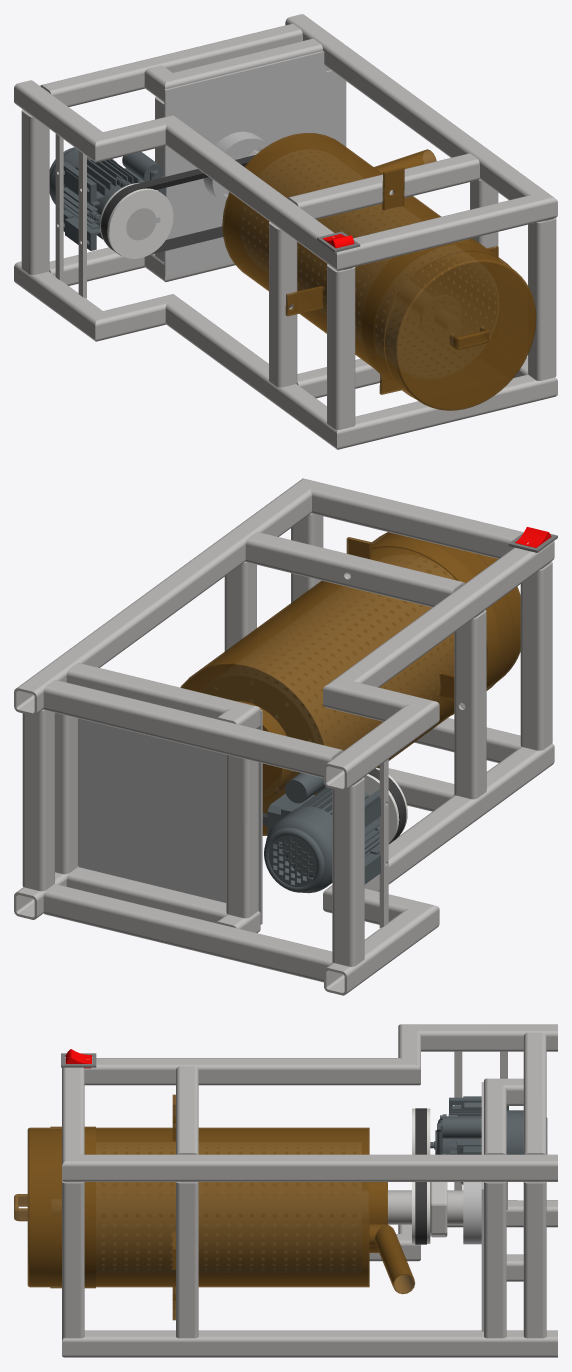
The model's file is wfilter.glb.
The picture shows the model from 3 angles, top to bottom: view 1: azimuth 30°, elevation 25°; view 2: azimuth 150°, elevation 25°; view 3: azimuth 270°, elevation 25°; orthographic projection. The views are drawn at different scales.
Visible parts, largest first — view 1: Solid1 (×29); view 2: Solid1 (×34); view 3: Solid1 (×27).
Boxes of the visible parts, x1=… form: Solid1 (×29): x1=14, y1=14, x2=557, y2=449; Solid1 (×34): x1=14, y1=478, x2=554, y2=995; Solid1 (×27): x1=14, y1=1024, x2=557, y2=1357.
Size of the model in its own units: 0.3372 by 0.2103 by 0.477.
